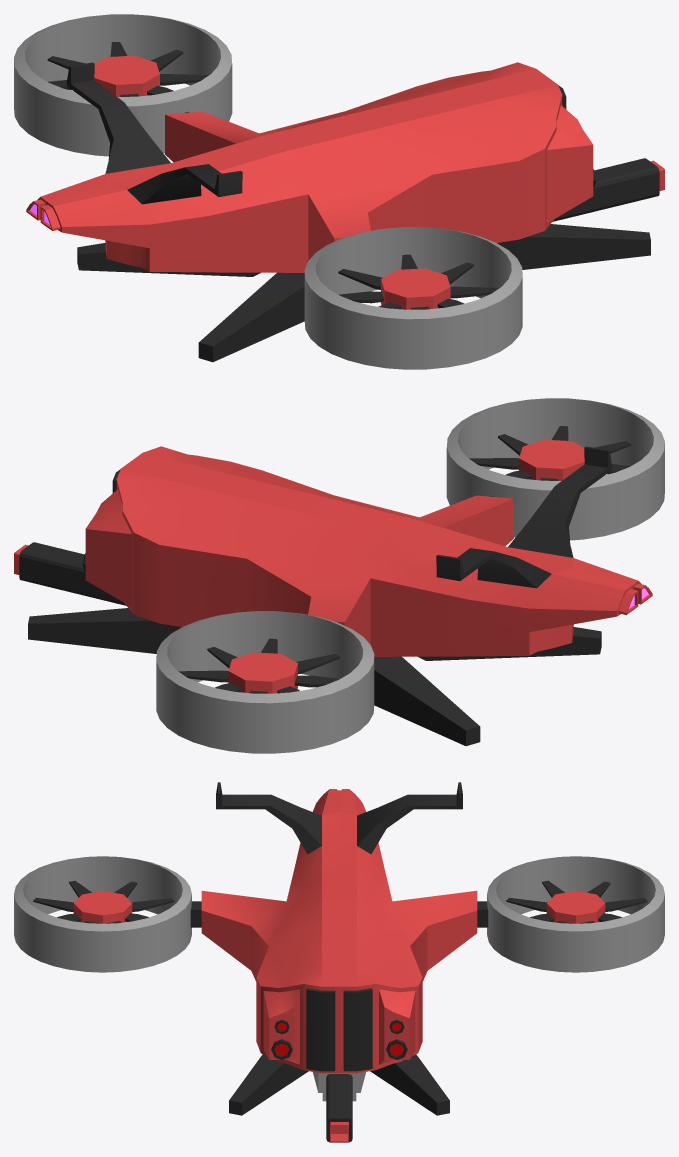
File: drone (2).fbx
The picture shows the model from 3 angles, top to bottom: view 1: azimuth 30°, elevation 25°; view 2: azimuth 150°, elevation 25°; view 3: azimuth 270°, elevation 25°; orthographic projection. The views are drawn at different scales.
Visible parts, largest first — view 1: body, propeller_right, propeller_left; view 2: body, propeller_left, propeller_right; view 3: body, propeller_right, propeller_left.
Part boxes in pixels (left/top/right/bottom): body: left=14, top=14, right=664, bottom=369; propeller_right: left=338, top=254, right=499, bottom=309; propeller_left: left=47, top=42, right=208, bottom=96; body: left=14, top=398, right=664, bottom=753; propeller_left: left=178, top=638, right=340, bottom=693; propeller_right: left=469, top=426, right=630, bottom=480; body: left=14, top=782, right=664, bottom=1142; propeller_right: left=33, top=880, right=174, bottom=923; propeller_left: left=506, top=880, right=647, bottom=923.
Size of the model in its own units: 1650 by 518 by 1844.
